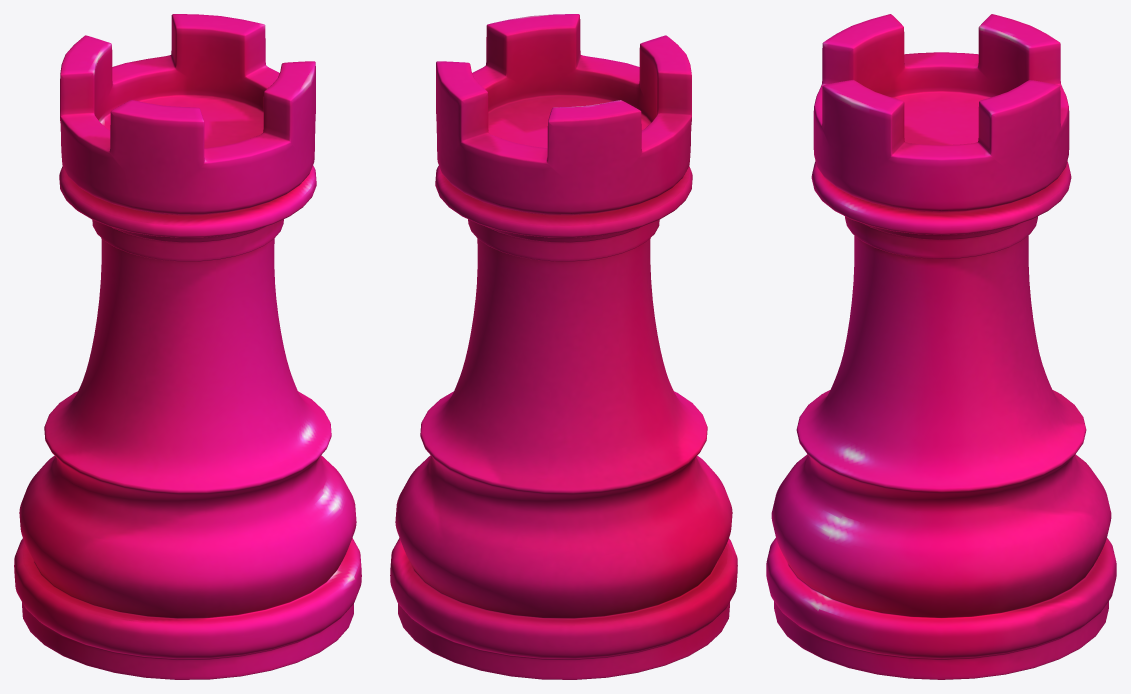
The model's file is castle.gltf.
3 renders of one model, left to right at view 1: azimuth 30°, elevation 25°; view 2: azimuth 150°, elevation 25°; view 3: azimuth 270°, elevation 25°, orthographic.
Parts seen in each view (by area): view 1: Object001.001; view 2: Object001.001; view 3: Object001.001.
Boxes of the visible parts, x1=… form: Object001.001: x1=14, y1=14, x2=361, y2=679; Object001.001: x1=390, y1=14, x2=737, y2=679; Object001.001: x1=766, y1=14, x2=1116, y2=679.
Bounding box in the file's own units: 3.94 × 6.77 × 3.94.
1 material, 1 textured.
